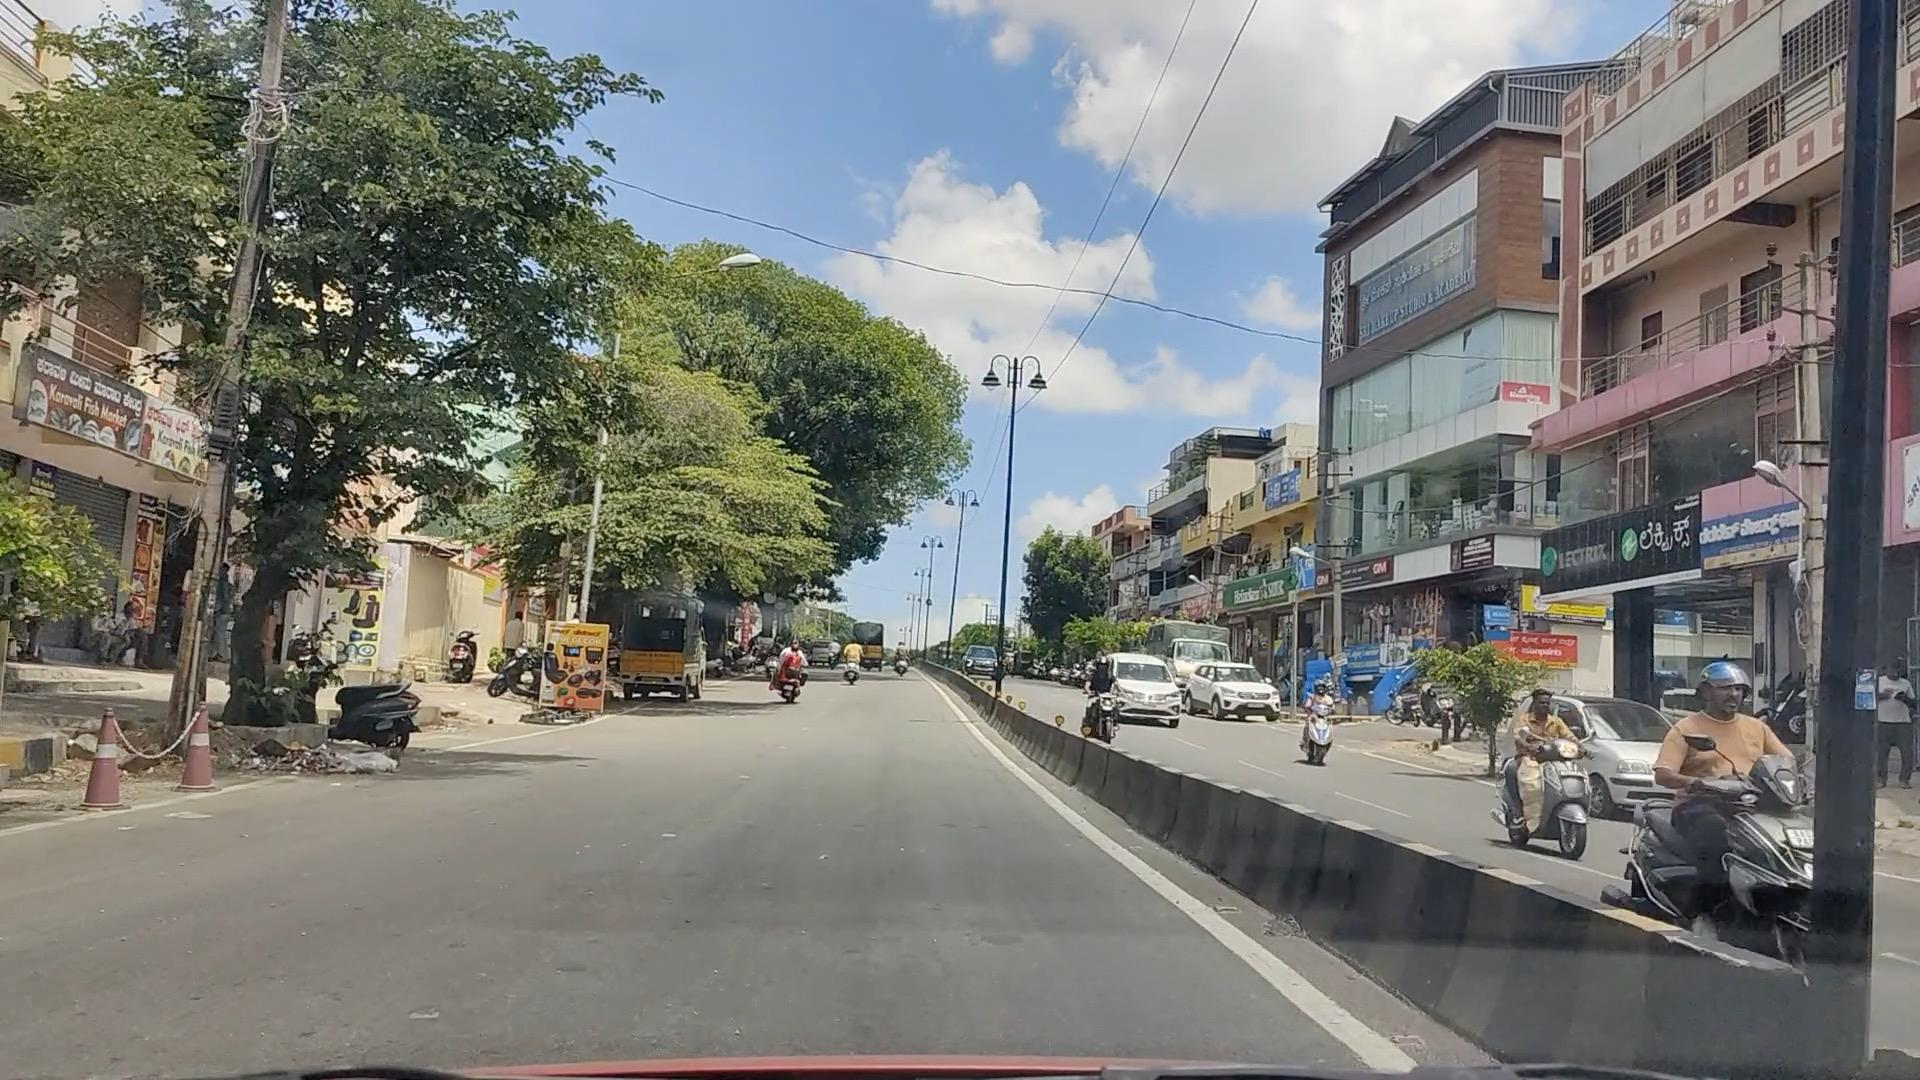HMV: (632, 550, 703, 735)
